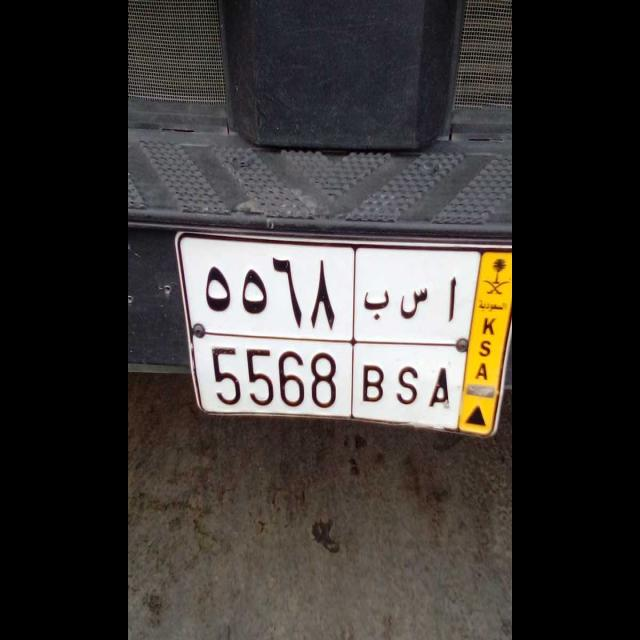license_plate: (189, 334, 460, 428)
